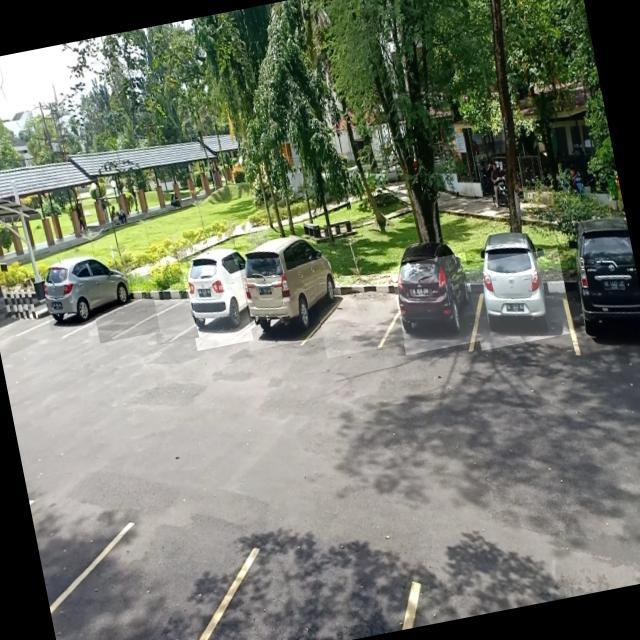empty: (314, 271, 405, 359), (94, 297, 160, 344), (151, 298, 200, 346)
occupied: (465, 248, 574, 350), (235, 254, 343, 351), (389, 252, 482, 355), (41, 260, 138, 332), (182, 258, 254, 350)
